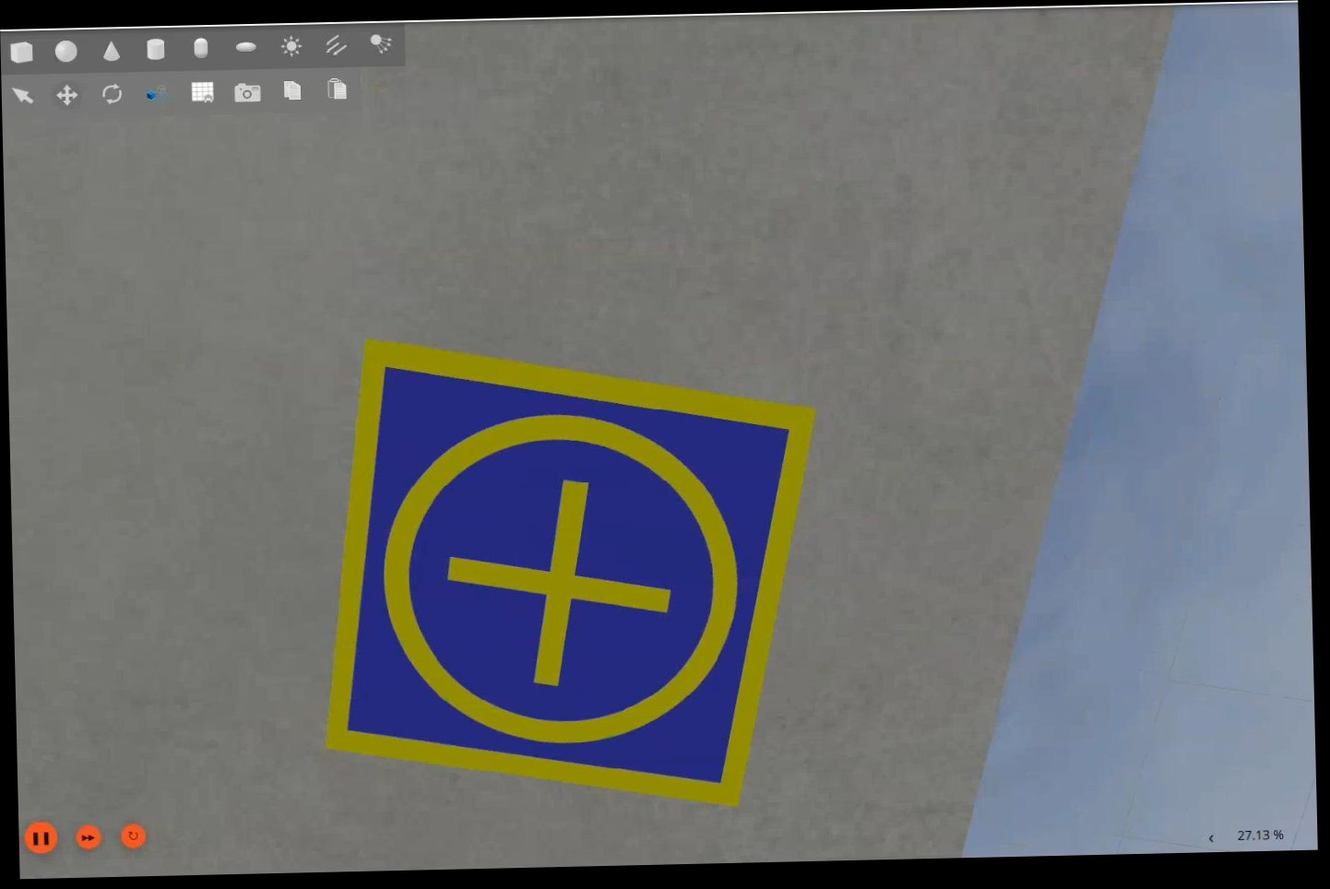small_base: (316, 323, 827, 822)
